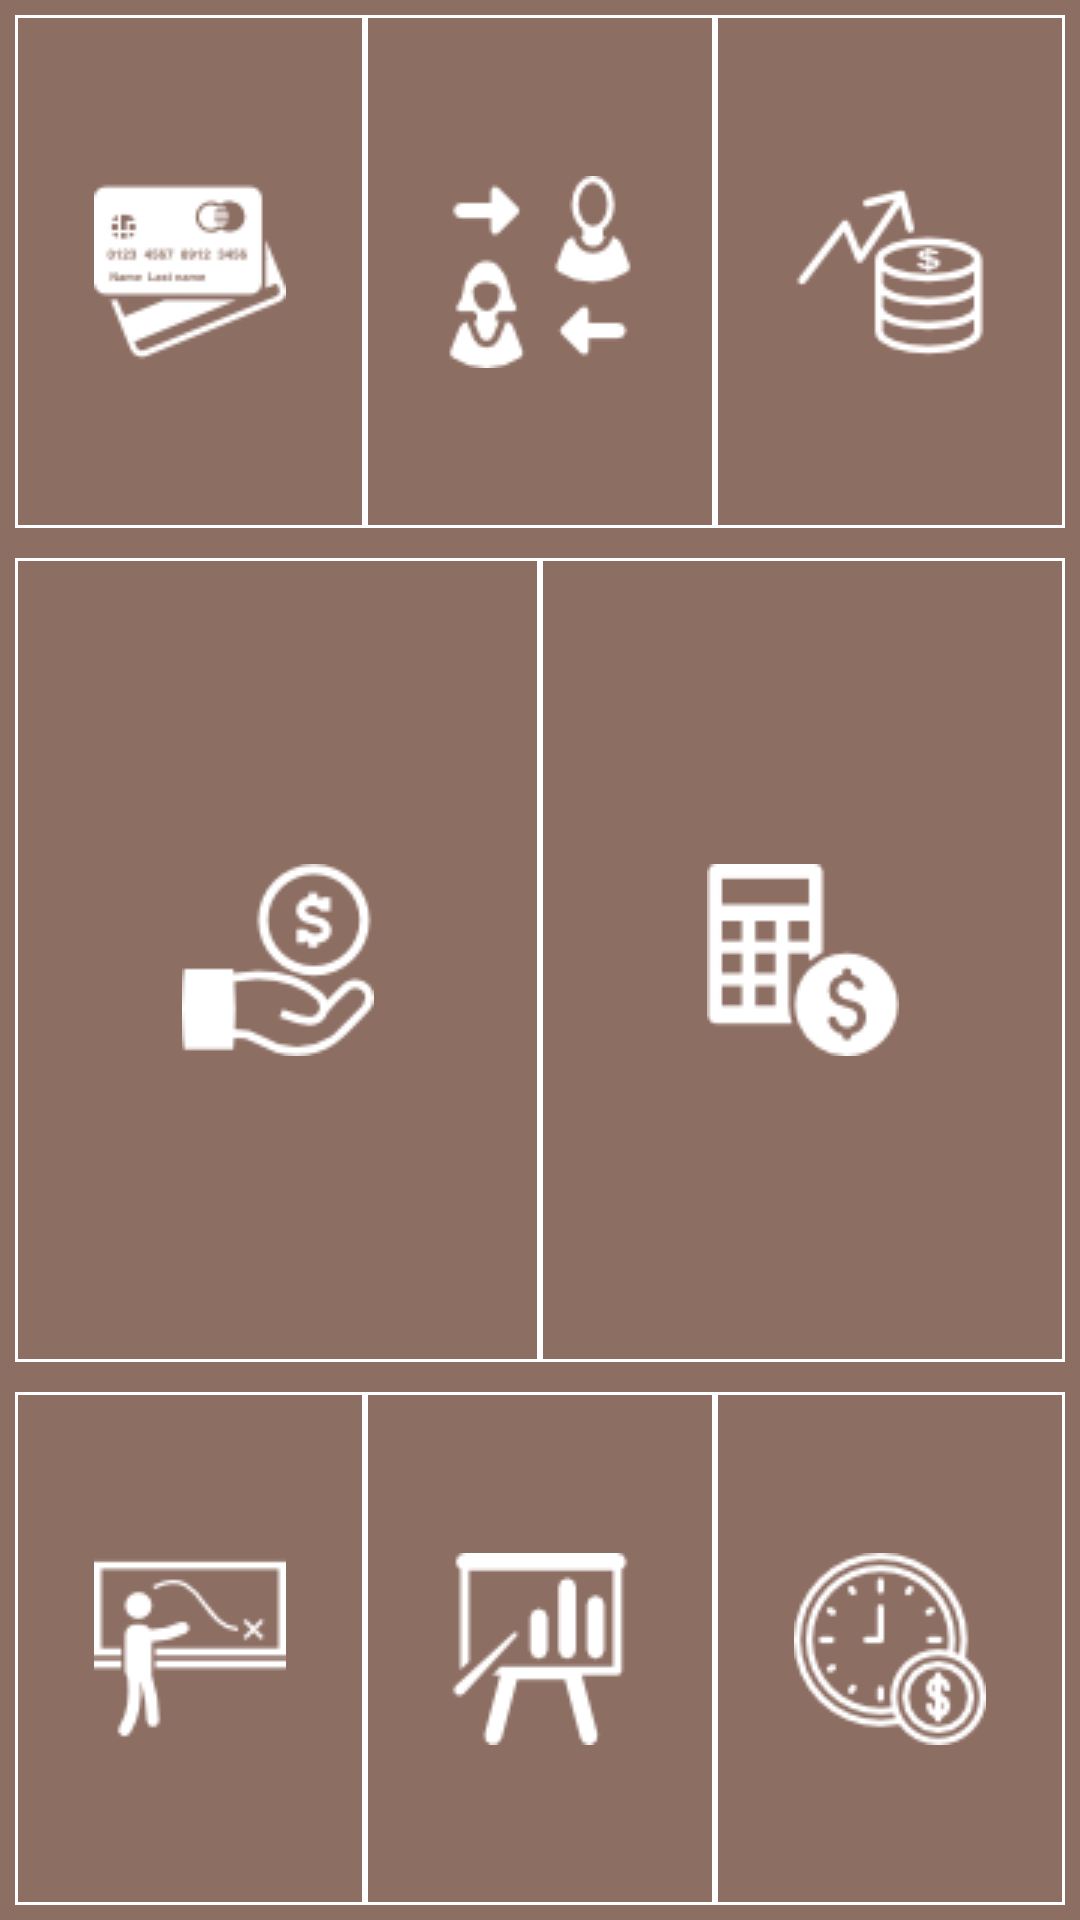

Point at icon controls on the screen. Image size 1080 × 1920, points as point (x, y).
coins: point (890, 272)
commerce: point (190, 272)
plan: point (190, 1649)
